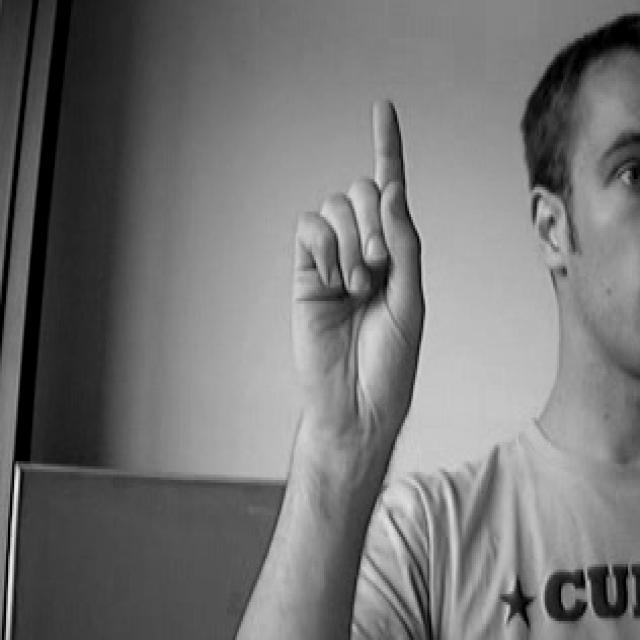D: (280, 82, 451, 450)
